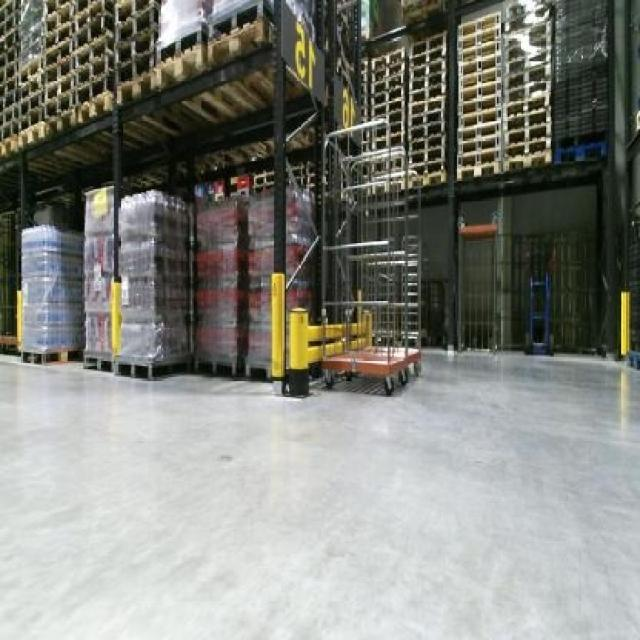floor: (0, 349, 637, 637)
pallets: (194, 191, 271, 372), (117, 189, 186, 369), (20, 223, 78, 351), (83, 186, 109, 362), (285, 183, 314, 306)
